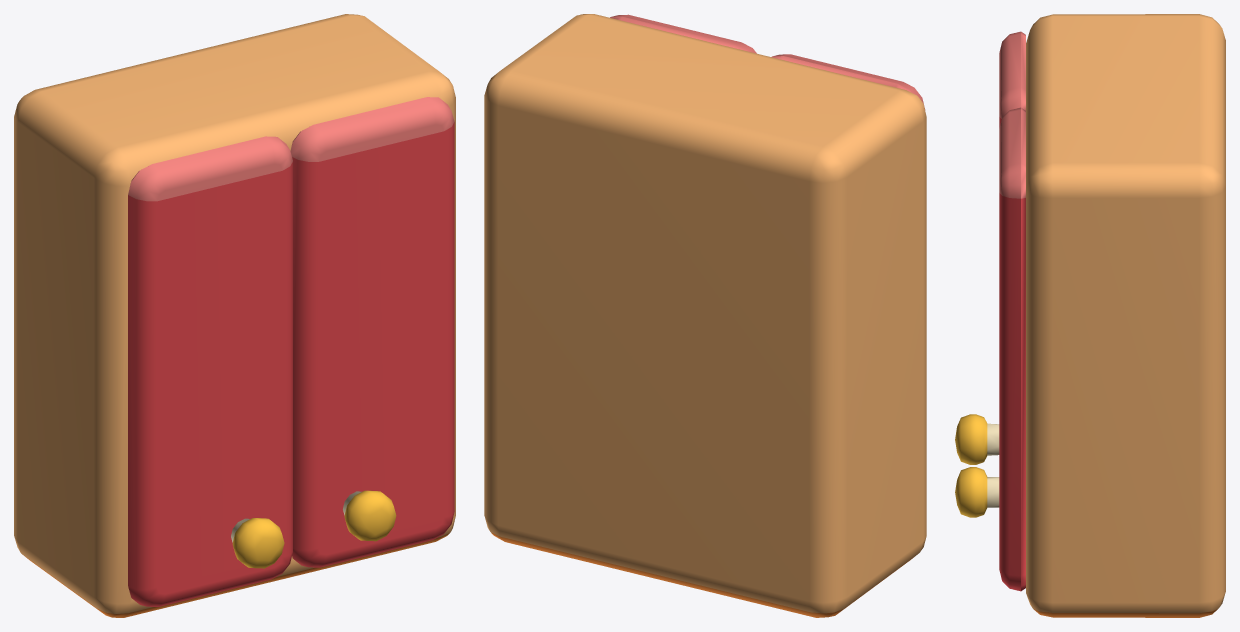
Rendered from armario_cozinha_natal_aereo_pacote.glb.
3 views of the same model, side by side, from view 1: azimuth 30°, elevation 25°; view 2: azimuth 150°, elevation 25°; view 3: azimuth 270°, elevation 25° (orthographic). The views are drawn at different scales.
Visible parts, largest first — view 1: armario_cozinha_natal_aereo_pacote, porta_1, porta_2; view 2: armario_cozinha_natal_aereo_pacote, porta_1, porta_2; view 3: armario_cozinha_natal_aereo_pacote, porta_2, porta_1.
Part boxes in pixels (x1,y1,x2,y2): armario_cozinha_natal_aereo_pacote: [14, 14, 455, 617]; porta_1: [128, 136, 292, 606]; porta_2: [290, 97, 454, 567]; armario_cozinha_natal_aereo_pacote: [484, 14, 926, 617]; porta_1: [771, 54, 925, 109]; porta_2: [610, 14, 756, 53]; armario_cozinha_natal_aereo_pacote: [1026, 14, 1225, 617]; porta_2: [955, 107, 1025, 591]; porta_1: [955, 31, 1025, 464].
Size of the model in its own units: 0.6377 by 0.7971 by 0.4322.
Materials: 1 (1 with a texture image).
